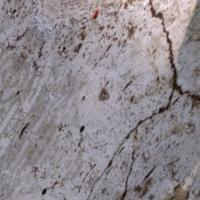crack: (108, 0, 199, 183)
